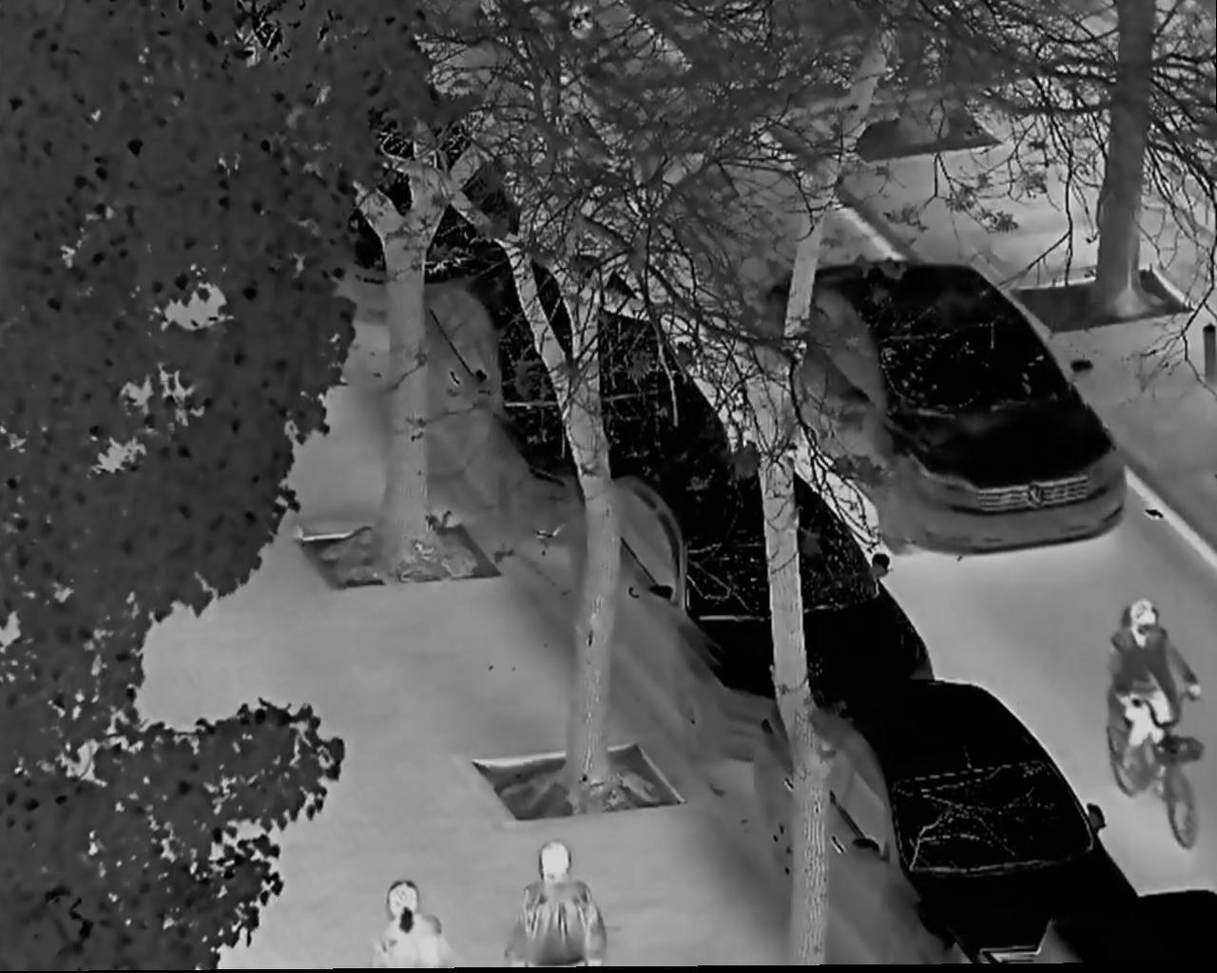person: (1101, 600, 1206, 785), (512, 843, 603, 973), (370, 880, 455, 973)
